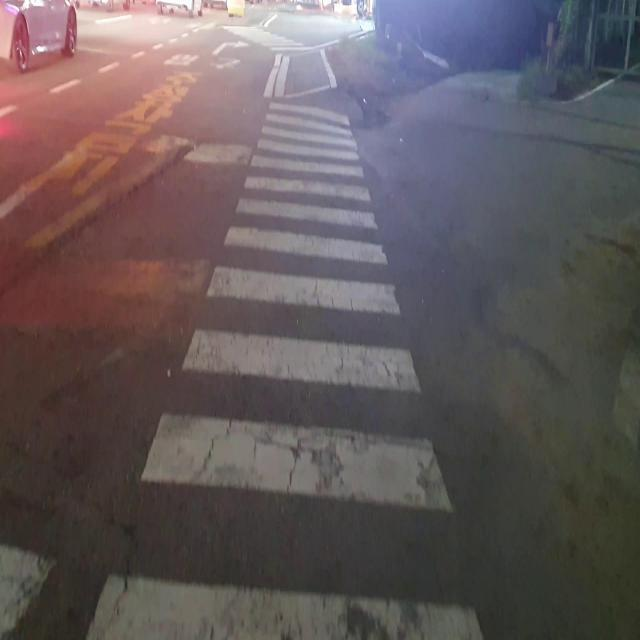crosswalk: (83, 100, 487, 640), (222, 23, 313, 54)
